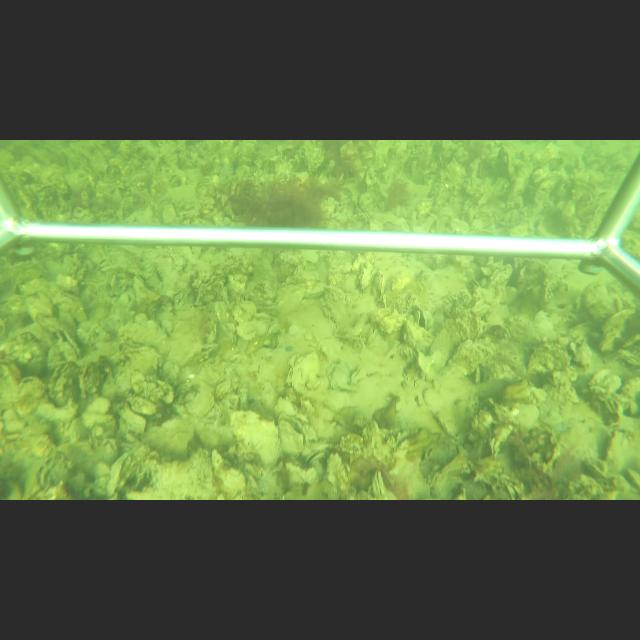Oyster-Closed: (230, 410, 281, 467), (430, 449, 466, 496), (286, 352, 322, 394), (47, 360, 77, 404), (279, 416, 308, 457), (359, 262, 373, 291)
Oyster-Open: (106, 452, 132, 498), (57, 328, 81, 360), (303, 445, 332, 465), (413, 308, 428, 331)
